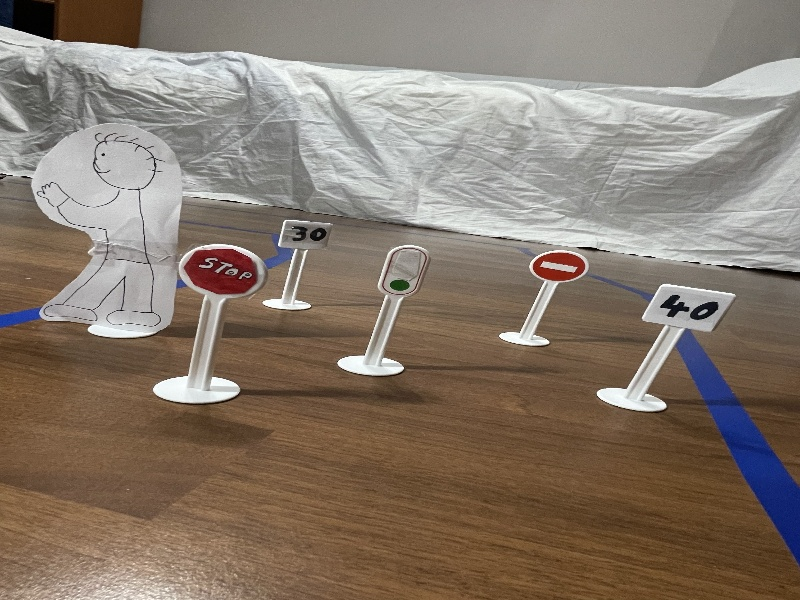interzis: (528, 237, 590, 291)
persoana: (24, 108, 172, 343)
semafor_verde: (375, 235, 440, 305)
stop: (179, 235, 270, 313)
viteza_limita_30: (274, 211, 338, 253)
viteza_limita_40: (636, 263, 741, 340)
